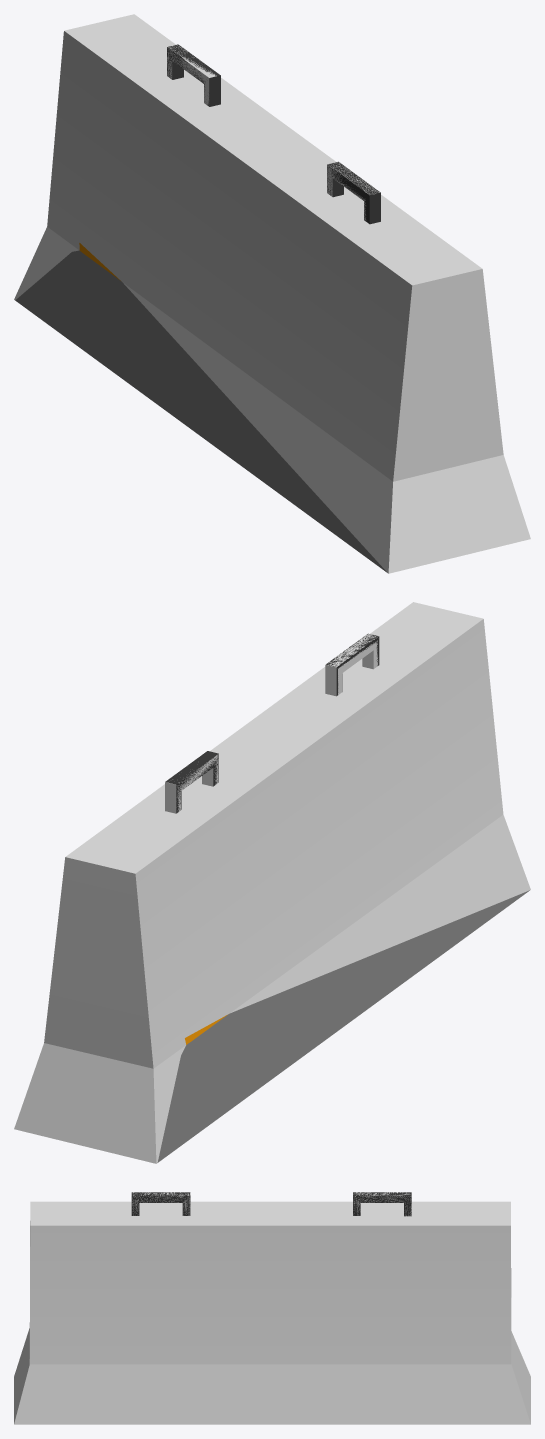
The model's file is model_road_barrier_03.fbx.
3 views of the same model, one above another, from view 1: azimuth 30°, elevation 25°; view 2: azimuth 150°, elevation 25°; view 3: azimuth 270°, elevation 25° (orthographic). The views are drawn at different scales.
Visible parts, largest first — view 1: model_road_barrier_03_col, model_road_barrier_03; view 2: model_road_barrier_03_col, model_road_barrier_03; view 3: model_road_barrier_03_col, model_road_barrier_03.
Boxes of the visible parts, x1,y1,x2,y2 form: model_road_barrier_03_col: [14, 14, 530, 573]; model_road_barrier_03: [15, 44, 387, 572]; model_road_barrier_03_col: [14, 602, 530, 1163]; model_road_barrier_03: [157, 633, 529, 1162]; model_road_barrier_03_col: [14, 1192, 530, 1424]; model_road_barrier_03: [131, 1192, 411, 1216].
Size of the model in its own units: 55.16 by 111 by 251.
Materials: 2 (1 with a texture image).
